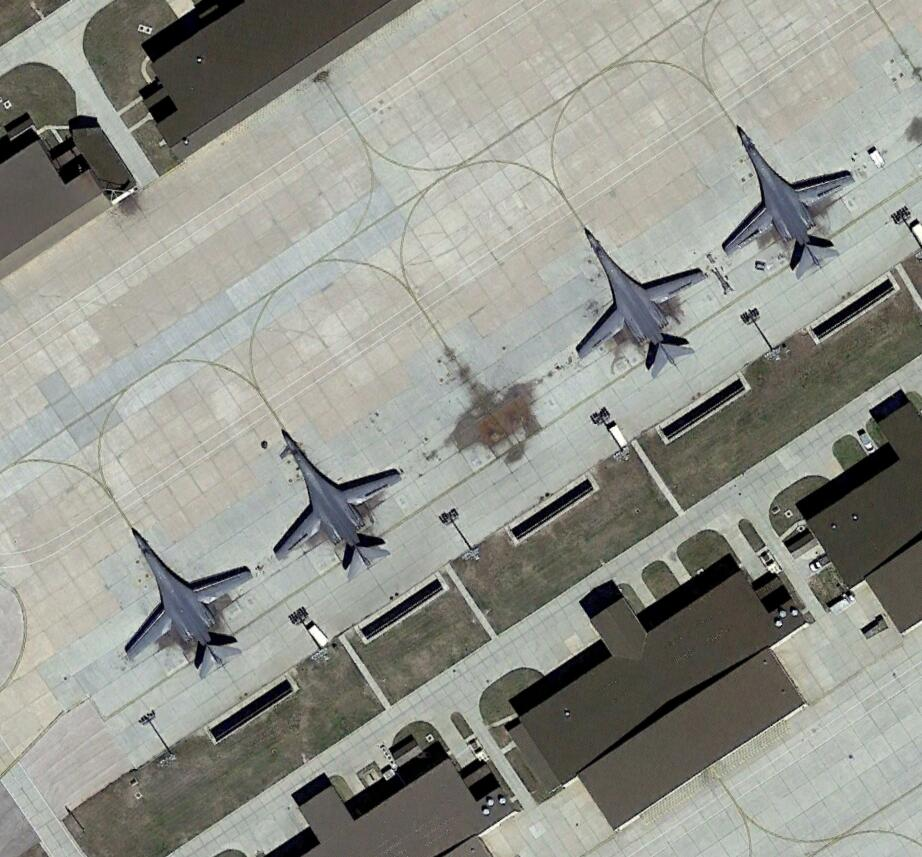A10: (563, 225, 710, 379), (715, 127, 858, 284), (121, 524, 254, 683), (270, 430, 407, 583)
